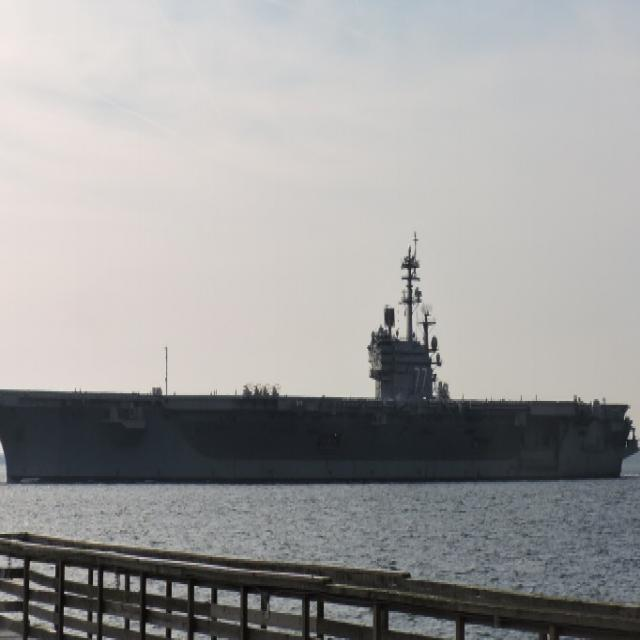Portanaves: (1, 227, 640, 491)
